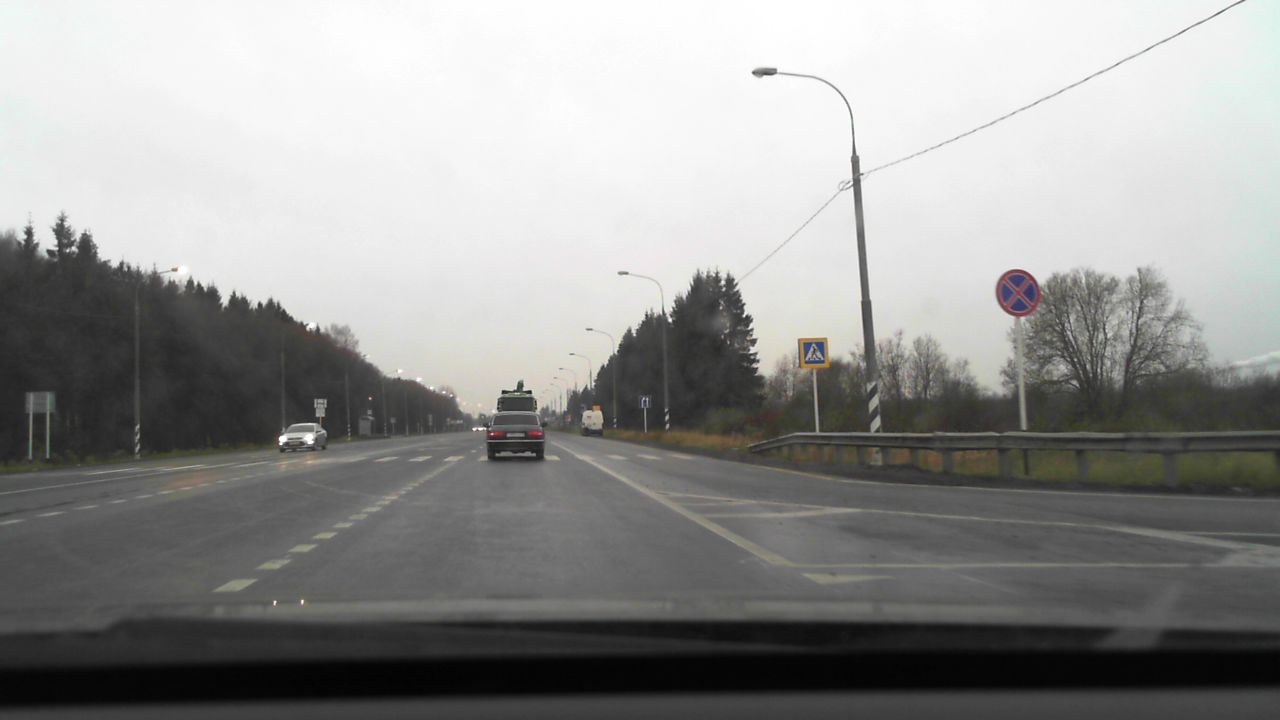No Parking: (995, 269, 1040, 316)
